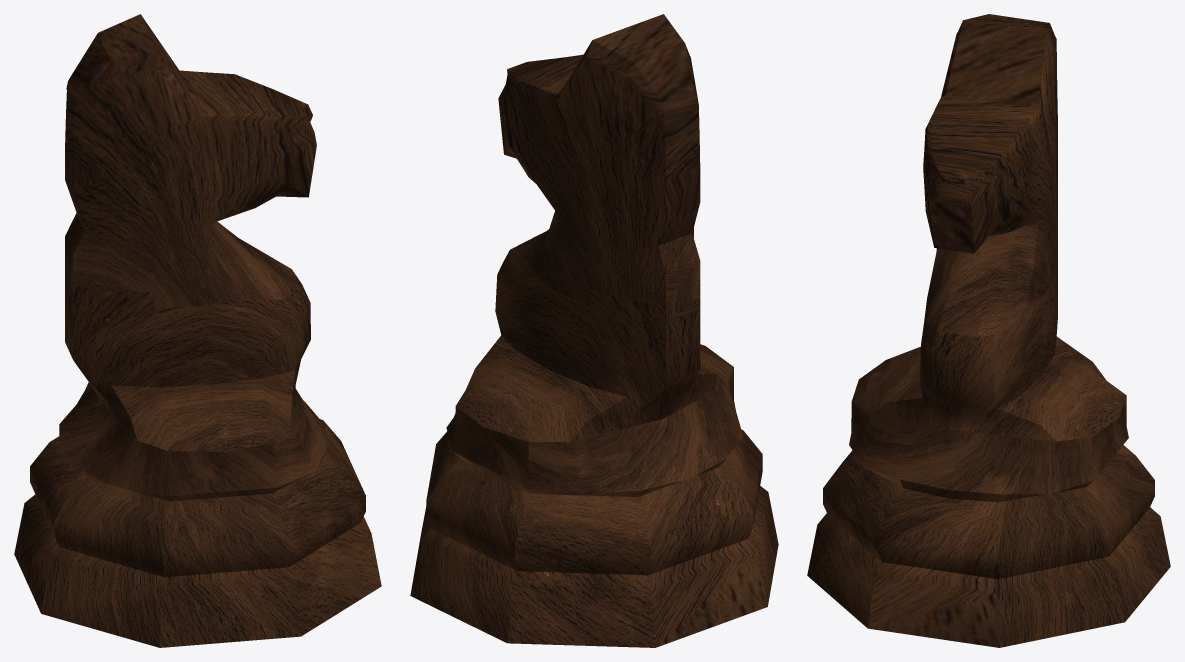
Rendered from gercek4_n_b.glb.
3 views of the same model, side by side, from view 1: azimuth 30°, elevation 25°; view 2: azimuth 150°, elevation 25°; view 3: azimuth 270°, elevation 25° (orthographic). The views are drawn at different scales.
Visible parts, largest first — view 1: BlackKnight_9; view 2: BlackKnight_9; view 3: BlackKnight_9.
Boxes of the visible parts, x1,y1,x2,y2 form: BlackKnight_9: (14,14,381,647); BlackKnight_9: (410,14,778,647); BlackKnight_9: (807,14,1170,647).
Bounding box in the file's own units: 0.0296 × 0.0472 × 0.0296.
Materials: 1 (1 with a texture image).
